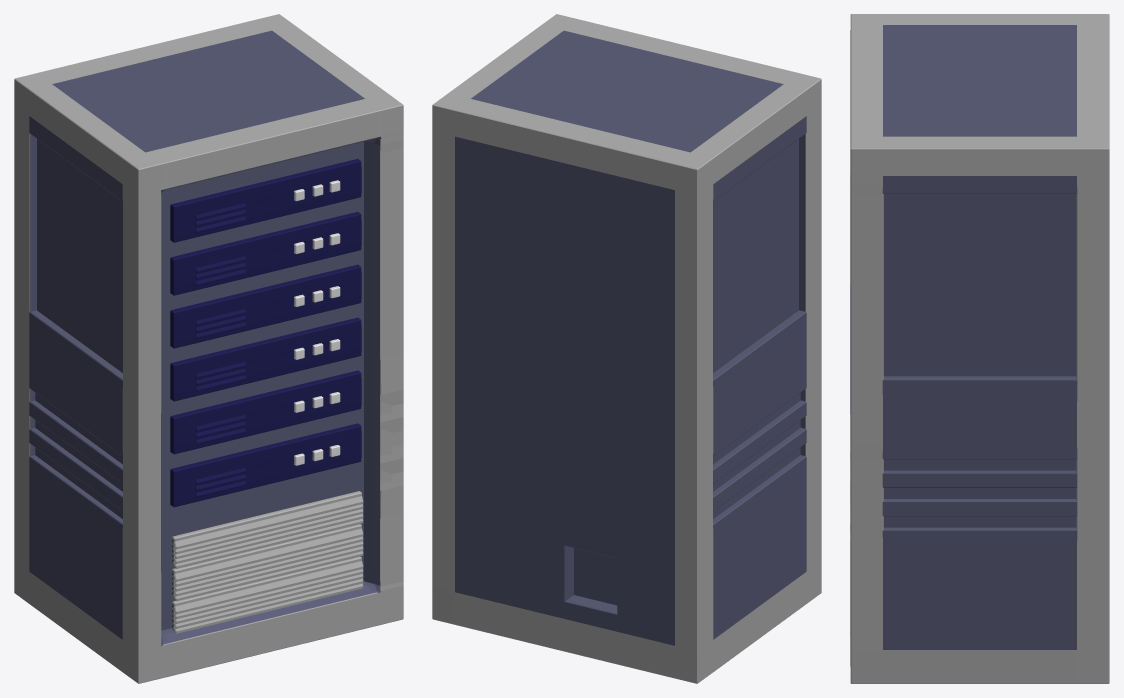
File: Server.fbx
3 views of the same model, side by side, from view 1: azimuth 30°, elevation 25°; view 2: azimuth 150°, elevation 25°; view 3: azimuth 270°, elevation 25° (orthographic). The views are drawn at different scales.
Visible parts, largest first — view 1: Plane.010; view 2: Plane.010; view 3: Plane.010.
Part boxes in pixels (<box>): Plane.010: <box>14,14,403,683</box>; Plane.010: <box>432,14,821,683</box>; Plane.010: <box>850,14,1109,683</box>.
Bounding box in the file's own units: 433 × 802 × 351.
